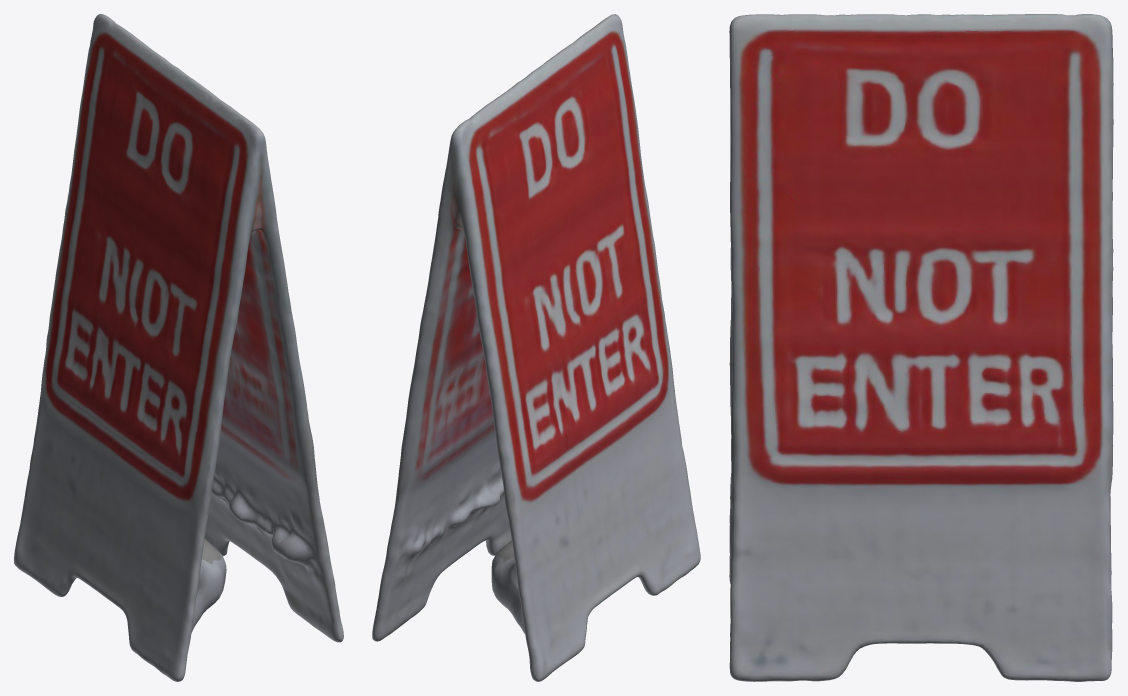
Rendered from 61a06eb2b991_sign_do_not_enter__.fbx.
3 views of the same model, side by side, from view 1: azimuth 30°, elevation 25°; view 2: azimuth 150°, elevation 25°; view 3: azimuth 270°, elevation 25° (orthographic). The views are drawn at different scales.
Parts seen in each view (by area): view 1: high_poly; view 2: high_poly; view 3: high_poly.
Part boxes in pixels (box(x1,y1,x2,y2)): high_poly: box(14, 14, 343, 681); high_poly: box(372, 14, 700, 681); high_poly: box(729, 14, 1113, 681).
Size of the model in its own units: 33.38 by 100 by 56.
